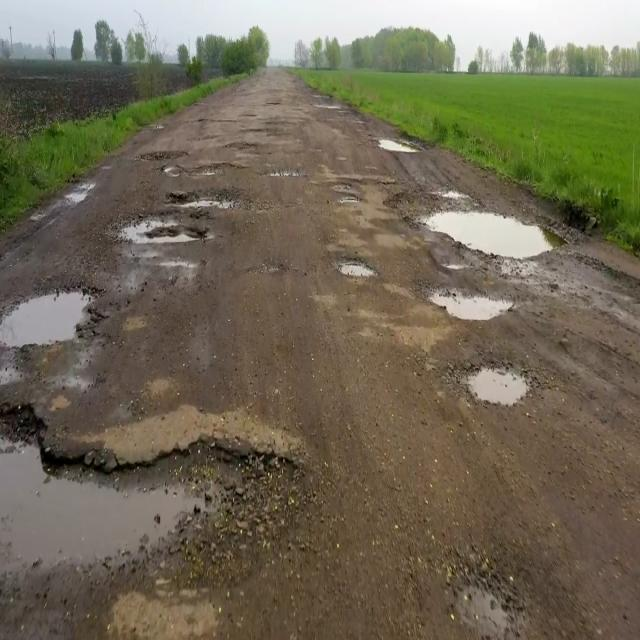Pothole: (0, 392, 306, 606), (411, 184, 585, 267), (103, 183, 228, 280), (0, 260, 107, 358), (450, 336, 550, 418), (418, 274, 524, 324), (358, 116, 426, 176), (166, 168, 236, 225), (360, 119, 428, 163), (370, 120, 430, 163), (322, 244, 381, 286)
